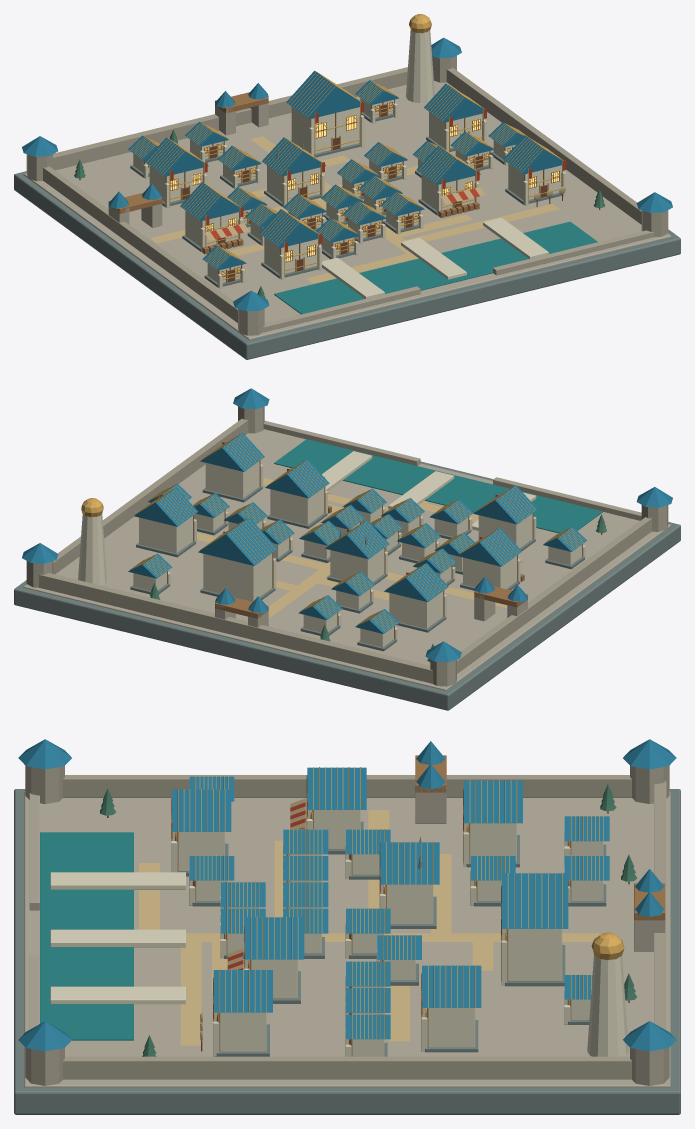
The model's file is whitecliff.glb.
3 renders of one model, top to bottom at view 1: azimuth 30°, elevation 25°; view 2: azimuth 150°, elevation 25°; view 3: azimuth 270°, elevation 25°, orthographic. The views are drawn at different scales.
Visible parts, largest first — view 1: Terrain foundation geometry, Defensive perimeter geometry, Town identity landmarks geometry, adventurerGuild geometry, Streets and courtyards geometry, itemShop geometry, tavern geometry, trainingGround geometry, home geometry, equipmentShop geometry, inn geometry, bookstore geometry (+19 smaller); view 2: Terrain foundation geometry, Defensive perimeter geometry, Town identity landmarks geometry, adventurerGuild geometry, itemShop geometry, trainingGround geometry, bookstore geometry, inn geometry, tavern geometry, equipmentShop geometry, home geometry, Streets and courtyards geometry (+19 smaller); view 3: Terrain foundation geometry, Defensive perimeter geometry, Town identity landmarks geometry, Streets and courtyards geometry, adventurerGuild geometry, bookstore geometry, trainingGround geometry, equipmentShop geometry, tavern geometry, inn geometry, itemShop geometry, home geometry (+21 smaller).
Boxes of the visible parts, bbox=[...] form: Terrain foundation geometry: bbox=[14, 81, 680, 359]; Defensive perimeter geometry: bbox=[22, 37, 672, 335]; Town identity landmarks geometry: bbox=[274, 14, 597, 314]; adventurerGuild geometry: bbox=[286, 70, 365, 157]; Streets and courtyards geometry: bbox=[150, 136, 559, 283]; itemShop geometry: bbox=[416, 145, 485, 217]; tavern geometry: bbox=[180, 182, 249, 254]; trainingGround geometry: bbox=[503, 135, 567, 206]; home geometry: bbox=[259, 209, 323, 279]; equipmentShop geometry: bbox=[262, 137, 326, 206]; inn geometry: bbox=[144, 137, 208, 207]; bookstore geometry: bbox=[424, 83, 487, 151]; Terrain foundation geometry: bbox=[14, 429, 680, 710]; Defensive perimeter geometry: bbox=[22, 388, 672, 686]; Town identity landmarks geometry: bbox=[78, 439, 602, 585]; adventurerGuild geometry: bbox=[198, 517, 277, 601]; itemShop geometry: bbox=[265, 459, 331, 528]; trainingGround geometry: bbox=[200, 433, 264, 502]; bookstore geometry: bbox=[134, 487, 198, 557]; inn geometry: bbox=[384, 563, 448, 632]; tavern geometry: bbox=[458, 527, 524, 590]; equipmentShop geometry: bbox=[325, 520, 389, 584]; home geometry: bbox=[473, 485, 537, 550]; Streets and courtyards geometry: bbox=[197, 477, 507, 618]; Terrain foundation geometry: bbox=[14, 789, 680, 1114]; Defensive perimeter geometry: bbox=[18, 739, 676, 1085]; Town identity landmarks geometry: bbox=[40, 832, 628, 1056]; Streets and courtyards geometry: bbox=[139, 810, 601, 1045]; adventurerGuild geometry: bbox=[501, 872, 568, 986]; bookstore geometry: bbox=[421, 965, 481, 1052]; trainingGround geometry: bbox=[200, 969, 272, 1056]; equipmentShop geometry: bbox=[379, 836, 439, 928]; tavern geometry: bbox=[290, 767, 366, 854]; inn geometry: bbox=[463, 780, 522, 867]; itemShop geometry: bbox=[227, 916, 304, 1003]; home geometry: bbox=[171, 789, 231, 876].
Size of the model in its own units: 69.2 by 15.25 by 64.
